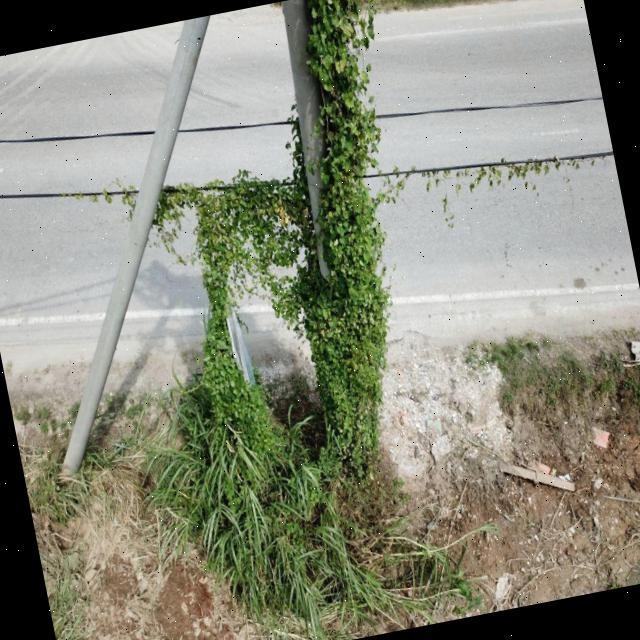critical vegetation: (65, 0, 452, 469)
